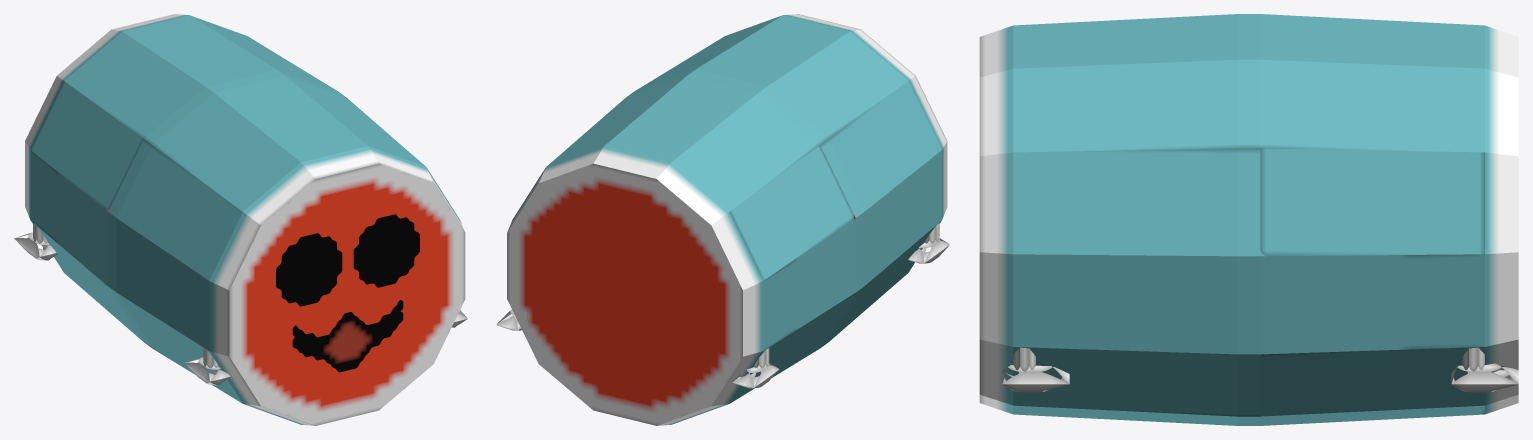
File: donchan.obj
3 views of the same model, side by side, from view 1: azimuth 30°, elevation 25°; view 2: azimuth 150°, elevation 25°; view 3: azimuth 270°, elevation 25° (orthographic). The views are drawn at different scales.
Visible parts, largest first — view 1: cylinder, face1, face0, axle_frontright, axle_rearright; view 2: cylinder, axle_rearright, axle_frontright; view 3: cylinder, axle_rearleft, axle_frontleft.
Boxes of the visible parts, box(x1,y1,x2,y2) form: cylinder: box(25, 14, 465, 425); face1: box(276, 214, 419, 372); face0: box(292, 311, 403, 360); axle_frontright: box(184, 357, 230, 385); axle_rearright: box(14, 232, 57, 260); cylinder: box(507, 14, 947, 425); axle_rearright: box(732, 363, 779, 388); axle_frontright: box(908, 238, 949, 263); cylinder: box(979, 14, 1518, 425); axle_rearleft: box(1451, 363, 1518, 392); axle_frontleft: box(1002, 365, 1069, 392).
Bounding box in the file's own units: 2.25 × 2.25 × 3.01.
